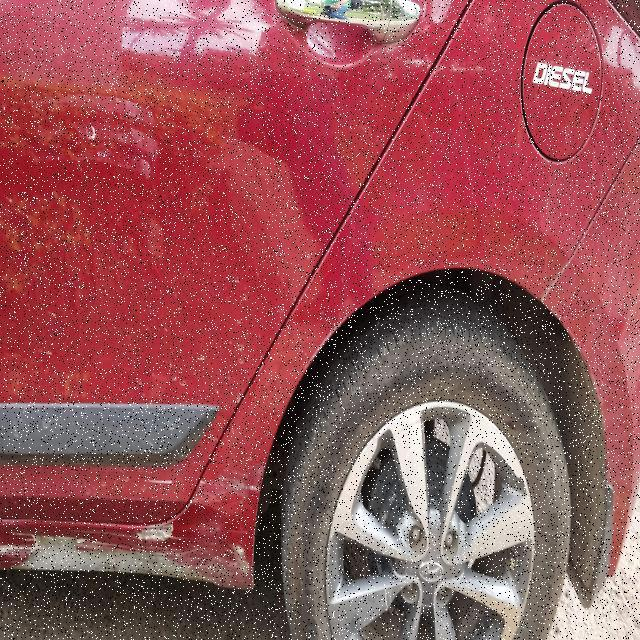car damage: (1, 507, 282, 602)
